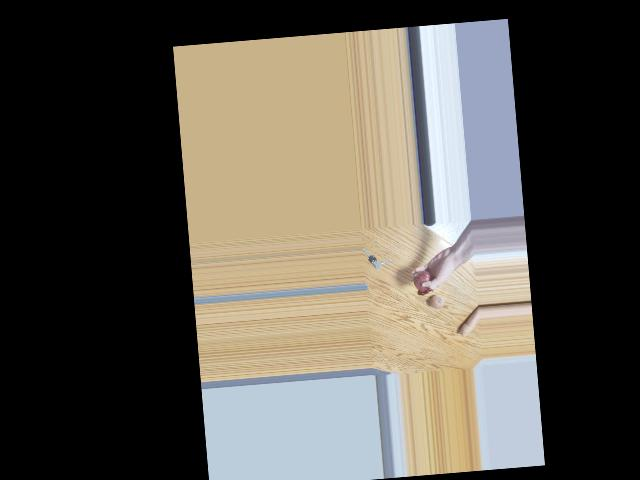onion: (429, 288, 448, 310)
